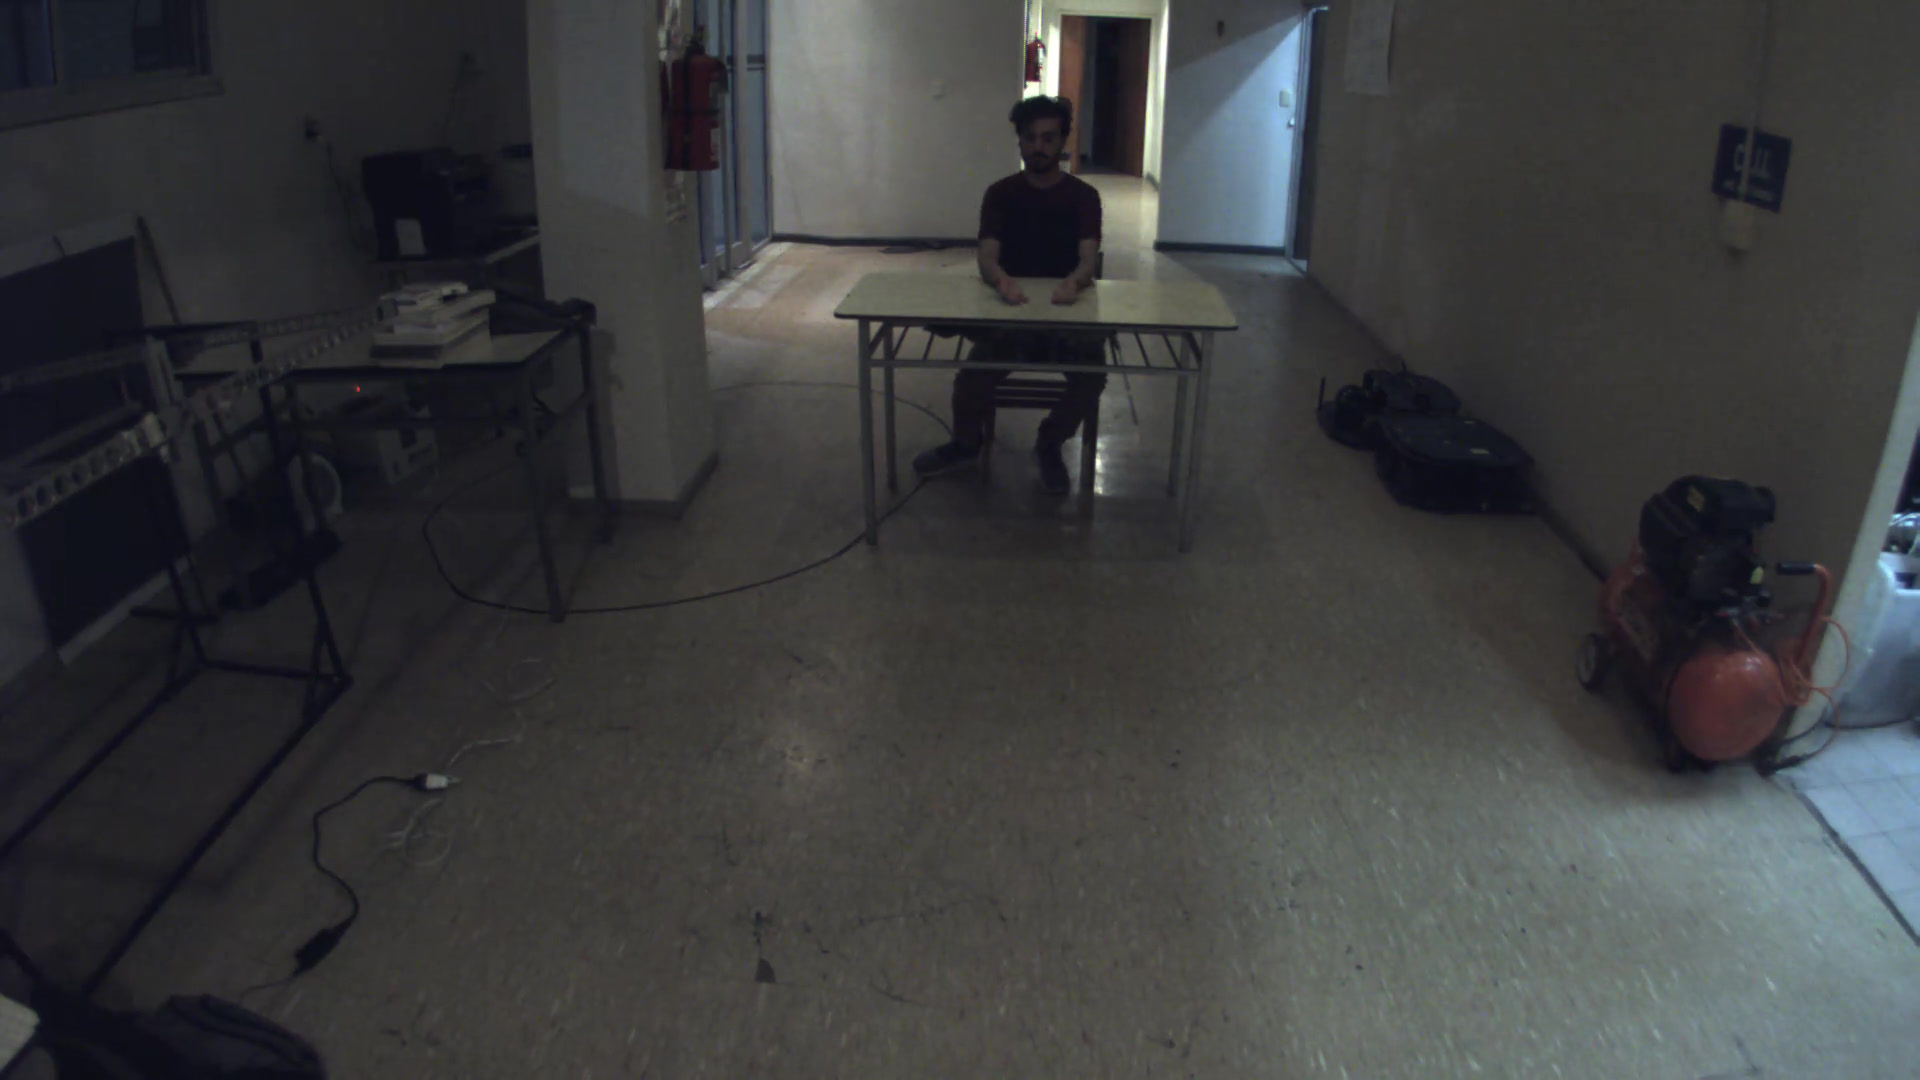hand: (989, 265, 1034, 326), (1048, 260, 1095, 313)
